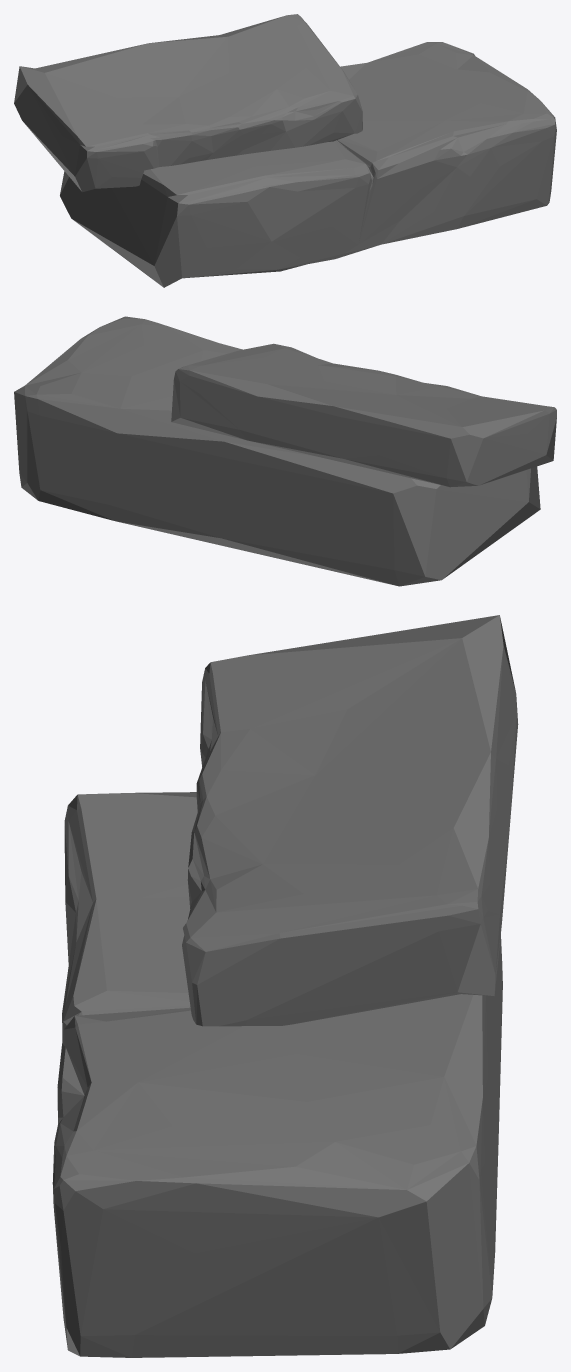
The model's file is Rock_007.fbx.
3 views of the same model, one above another, from view 1: azimuth 30°, elevation 25°; view 2: azimuth 150°, elevation 25°; view 3: azimuth 270°, elevation 25° (orthographic). The views are drawn at different scales.
Visible parts, largest first — view 1: Rock_007; view 2: Rock_007; view 3: Rock_007.
Part boxes in pixels (left/top/right/bottom): Rock_007: left=14, top=14, right=556, bottom=287; Rock_007: left=14, top=316, right=556, bottom=586; Rock_007: left=52, top=615, right=518, bottom=1357.
Bounding box in the file's own units: 747 × 339 × 271.
Materials: 1 (1 with a texture image).
